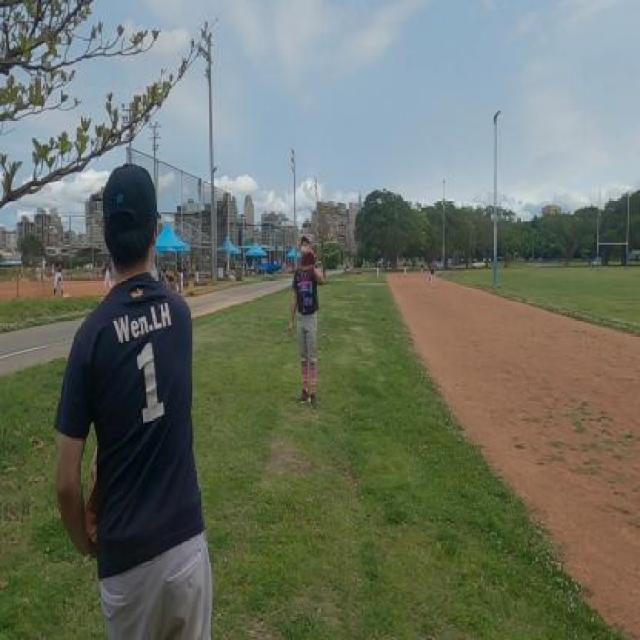baseball: (301, 247, 305, 255)
